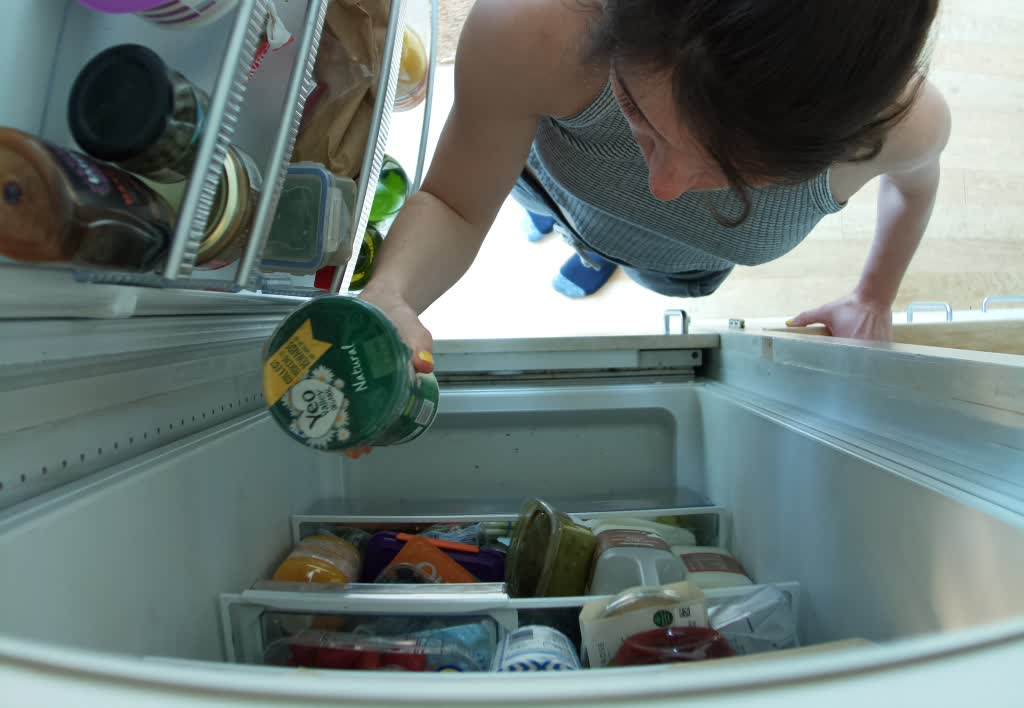yogurt: (259, 294, 442, 459)
